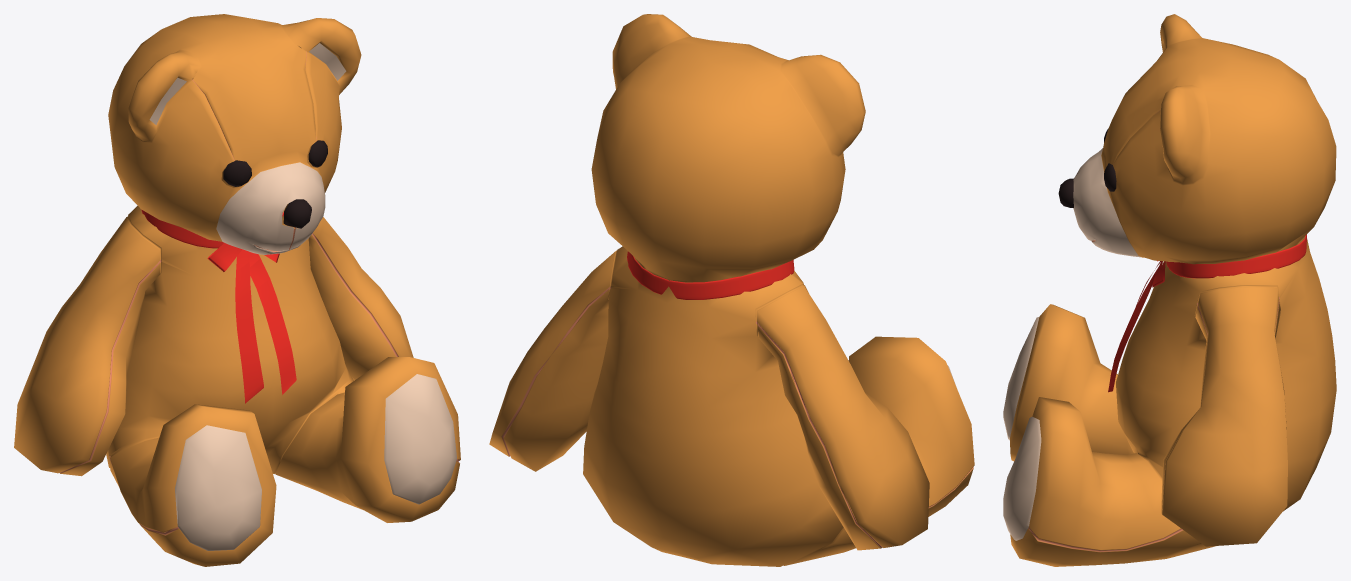
File: bear.dae
The picture shows the model from 3 angles, left to right: view 1: azimuth 30°, elevation 25°; view 2: azimuth 150°, elevation 25°; view 3: azimuth 270°, elevation 25°; orthographic projection. The views are drawn at different scales.
Visible parts, largest first — view 1: bear; view 2: bear; view 3: bear.
Boxes of the visible parts, x1,y1,x2,y2 form: bear: (14, 14, 460, 566); bear: (489, 14, 974, 566); bear: (1003, 14, 1336, 566).
Size of the model in its own units: 1.8 by 2.08 by 1.36.
